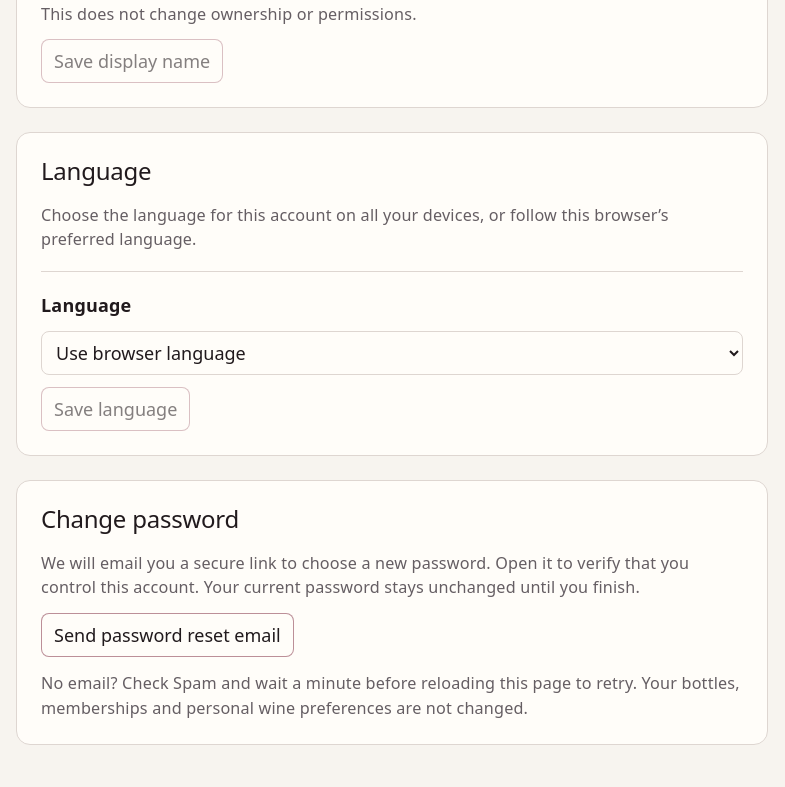
Test: account settings › requests a reset once, without collecting or changing a password in this screen
(page scrolled)
Click the button "Send password reset email": (167, 636) [41, 614, 294, 658]
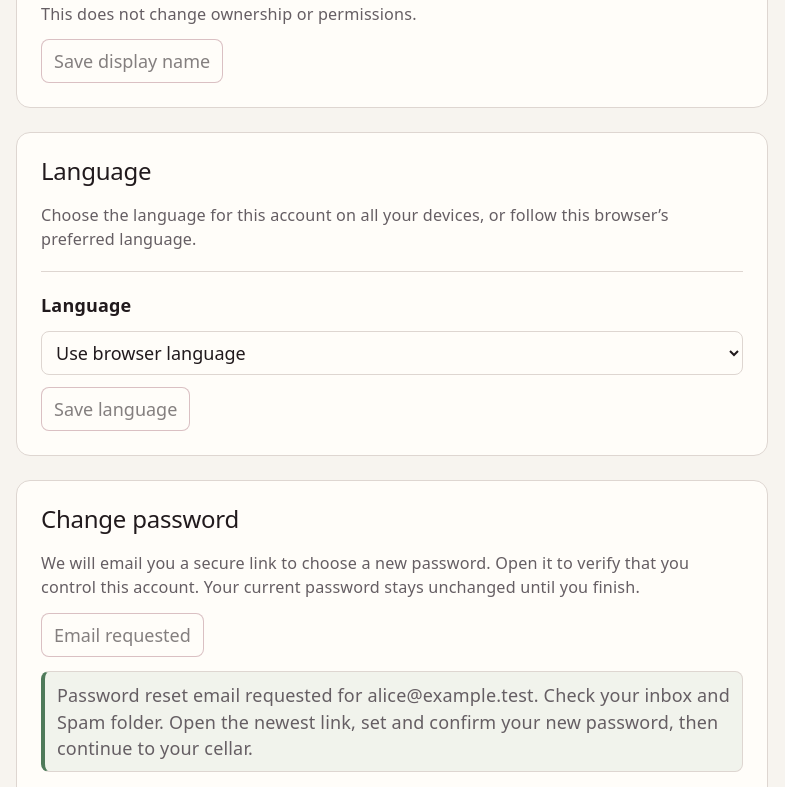
Expected: the button "Email requested" is disabled, [41, 614, 204, 658]
Expected: the text "alice@example.test. Check your inbox and Spam" is shown, [57, 684, 730, 760]
